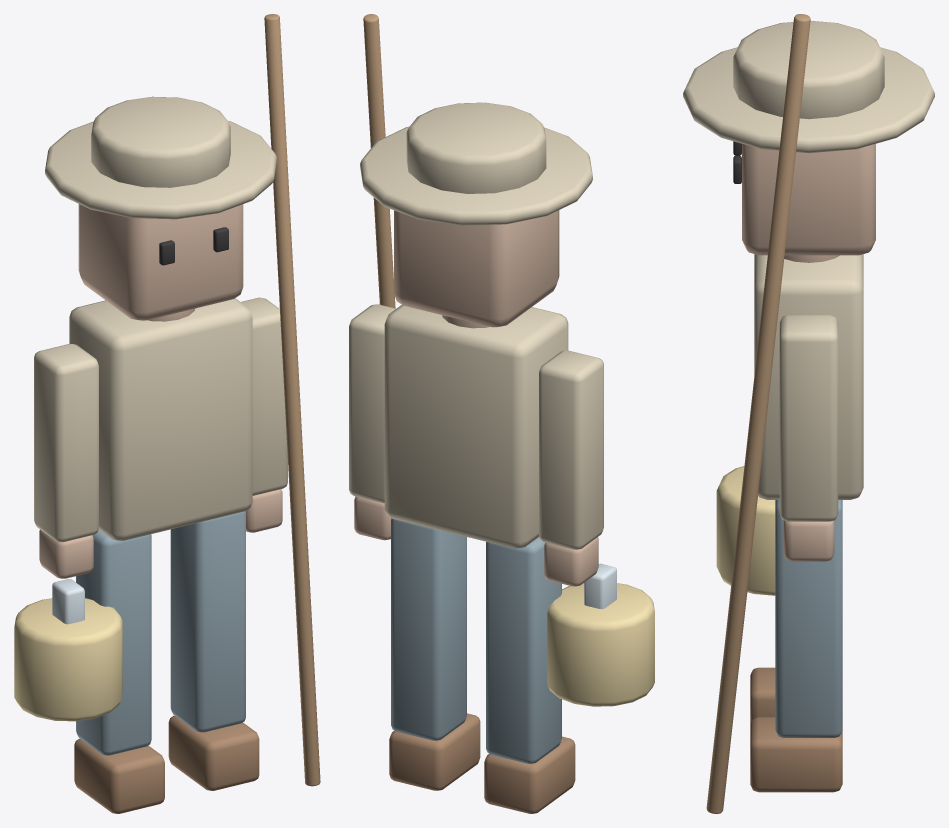
Rendered from npc_fisherman.glb.
The picture shows the model from 3 angles, left to right: view 1: azimuth 30°, elevation 25°; view 2: azimuth 150°, elevation 25°; view 3: azimuth 270°, elevation 25°; orthographic projection. The views are drawn at different scales.
Parts seen in each view (by area): view 1: Finn_Torso, Finn_Leg_R, Finn_Head, Finn_Rod, Finn_Arm_L, Finn_Basket, Finn_Hat_Crown, Finn_Hat_Brim, Finn_Leg_L, Finn_Arm_R, Finn_Shoe_R, Finn_Shoe_L (+3 smaller); view 2: Finn_Torso, Finn_Leg_R, Finn_Head, Finn_Leg_L, Finn_Arm_L, Finn_Basket, Finn_Hat_Crown, Finn_Hat_Brim, Finn_Arm_R, Finn_Shoe_R, Finn_Shoe_L, Finn_Rod (+3 smaller); view 3: Finn_Rod, Finn_Leg_R, Finn_Torso, Finn_Head, Finn_Arm_R, Finn_Hat_Brim, Finn_Hat_Crown, Finn_Shoe_R, Finn_Basket, Finn_Hand_R, Finn_Shoe_L.
Boxes of the visible parts, left/top/right/bottom form: Finn_Torso: left=69, top=298, right=252, bottom=540; Finn_Leg_R: left=170, top=511, right=245, bottom=732; Finn_Head: left=78, top=204, right=243, bottom=320; Finn_Rod: left=264, top=14, right=320, bottom=786; Finn_Arm_L: left=34, top=344, right=98, bottom=542; Finn_Basket: left=14, top=598, right=122, bottom=721; Finn_Hat_Crown: left=91, top=96, right=230, bottom=187; Finn_Hat_Brim: left=45, top=121, right=276, bottom=219; Finn_Leg_L: left=76, top=530, right=151, bottom=755; Finn_Arm_R: left=241, top=297, right=287, bottom=495; Finn_Shoe_R: left=168, top=715, right=259, bottom=790; Finn_Shoe_L: left=74, top=738, right=164, bottom=813; Finn_Torso: left=384, top=305, right=568, bottom=548; Finn_Leg_R: left=391, top=518, right=466, bottom=740; Finn_Head: left=394, top=210, right=559, bottom=327; Finn_Leg_L: left=486, top=537, right=561, bottom=763; Finn_Arm_L: left=539, top=350, right=603, bottom=549; Finn_Basket: left=547, top=583, right=654, bottom=706; Finn_Hat_Crown: left=406, top=102, right=546, bottom=193; Finn_Hat_Brim: left=360, top=126, right=592, bottom=225; Finn_Arm_R: left=349, top=304, right=395, bottom=503; Finn_Shoe_R: left=389, top=713, right=480, bottom=790; Finn_Shoe_L: left=484, top=736, right=575, bottom=813; Finn_Rod: left=363, top=14, right=395, bottom=308; Finn_Rod: left=706, top=14, right=810, bottom=813; Finn_Leg_R: left=775, top=500, right=842, bottom=737; Finn_Torso: left=754, top=254, right=863, bottom=499; Finn_Head: left=742, top=144, right=875, bottom=255; Finn_Arm_R: left=779, top=315, right=838, bottom=521; Finn_Hat_Brim: left=683, top=47, right=934, bottom=153; Finn_Hat_Crown: left=733, top=21, right=884, bottom=119; Finn_Shoe_R: left=750, top=717, right=842, bottom=792; Finn_Basket: left=716, top=466, right=775, bottom=595; Finn_Hand_R: left=783, top=520, right=834, bottom=561; Finn_Shoe_L: left=750, top=667, right=775, bottom=724.
Size of the model in its own units: 0.805 by 2.1 by 0.6.
